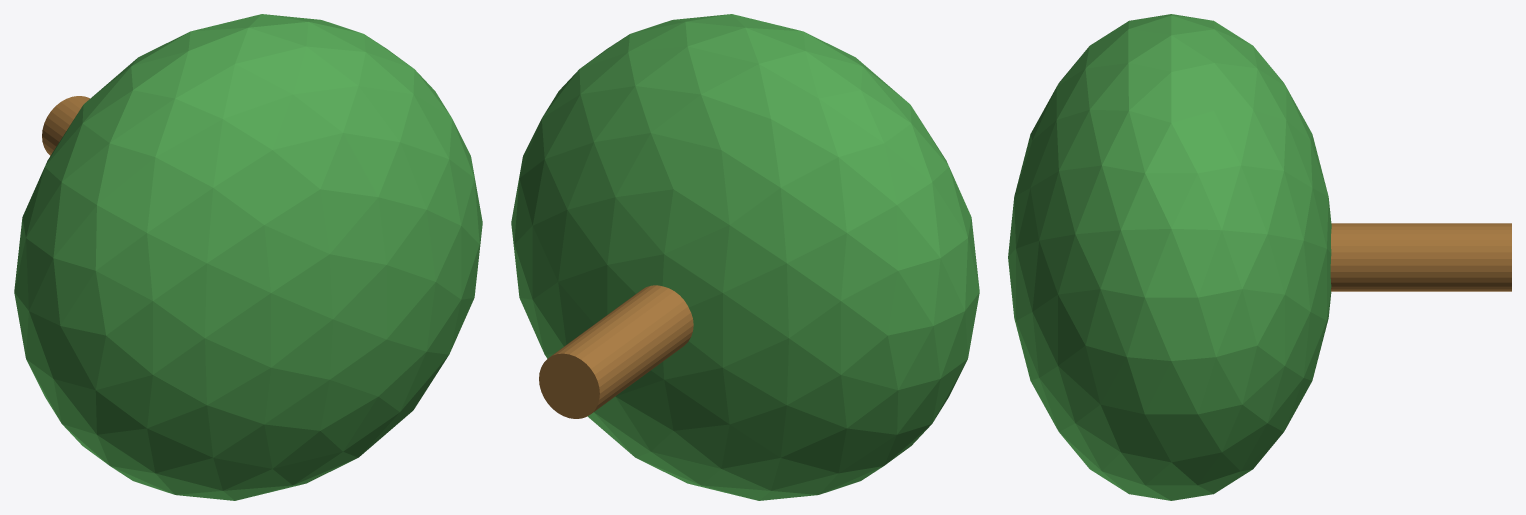
File: tree.glb
3 renders of one model, left to right at view 1: azimuth 30°, elevation 25°; view 2: azimuth 150°, elevation 25°; view 3: azimuth 270°, elevation 25°, orthographic. The views are drawn at different scales.
Parts seen in each view (by area): view 1: geometry_1, geometry_0; view 2: geometry_1, geometry_0; view 3: geometry_1, geometry_0.
Part boxes in pixels (left/top/right/bottom): geometry_1: left=14, top=14, right=482, bottom=500; geometry_0: left=42, top=96, right=89, bottom=155; geometry_1: left=511, top=14, right=979, bottom=500; geometry_0: left=539, top=285, right=693, bottom=418; geometry_1: left=1008, top=14, right=1331, bottom=500; geometry_0: left=1330, top=223, right=1511, bottom=291.
Bounding box in the file's own units: 2.88 × 2.88 × 2.96.
